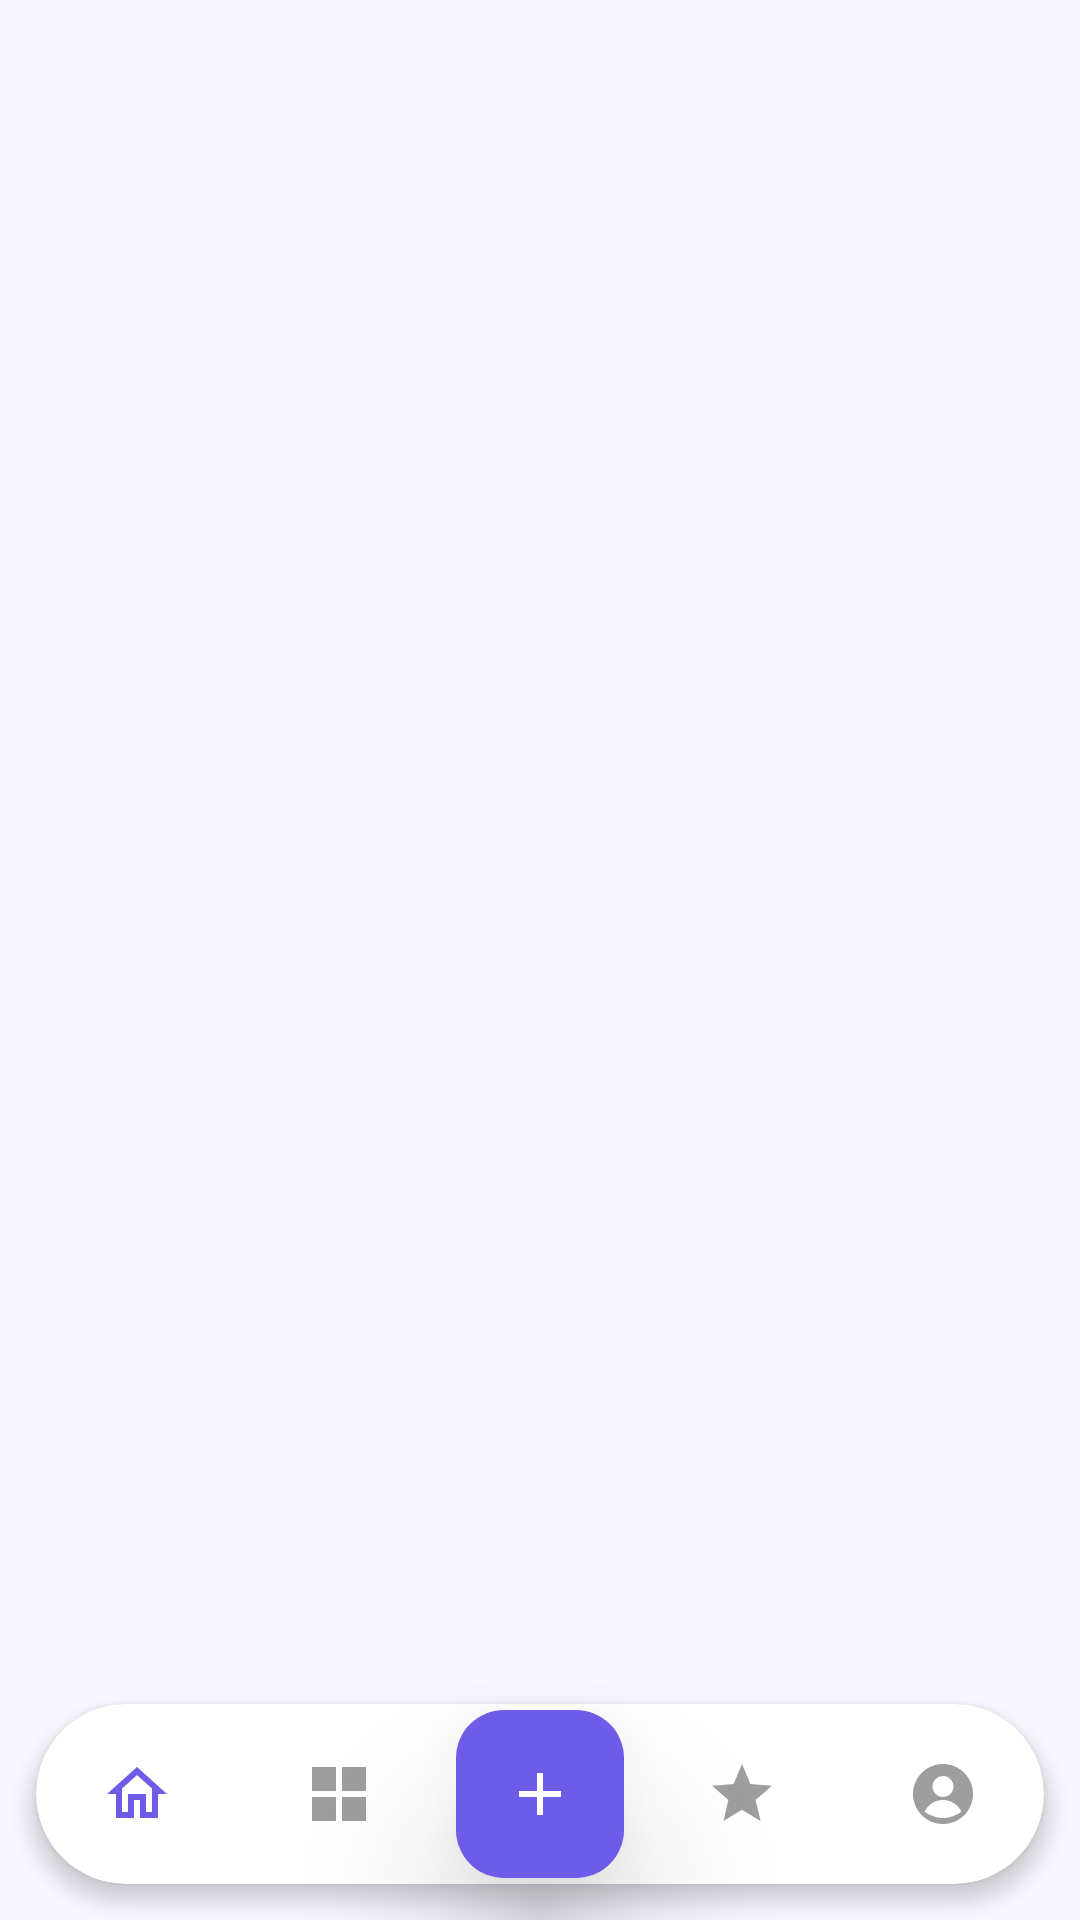

Icons on this 1080x1920 Android screen, each with its box as (x1, y1, x2, y2):
Add New: (456, 1710, 624, 1878)
